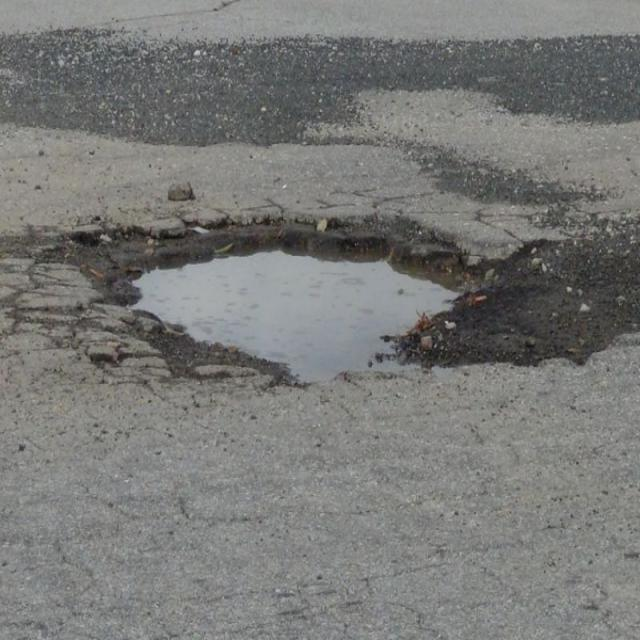Pothole: (60, 219, 640, 392)
